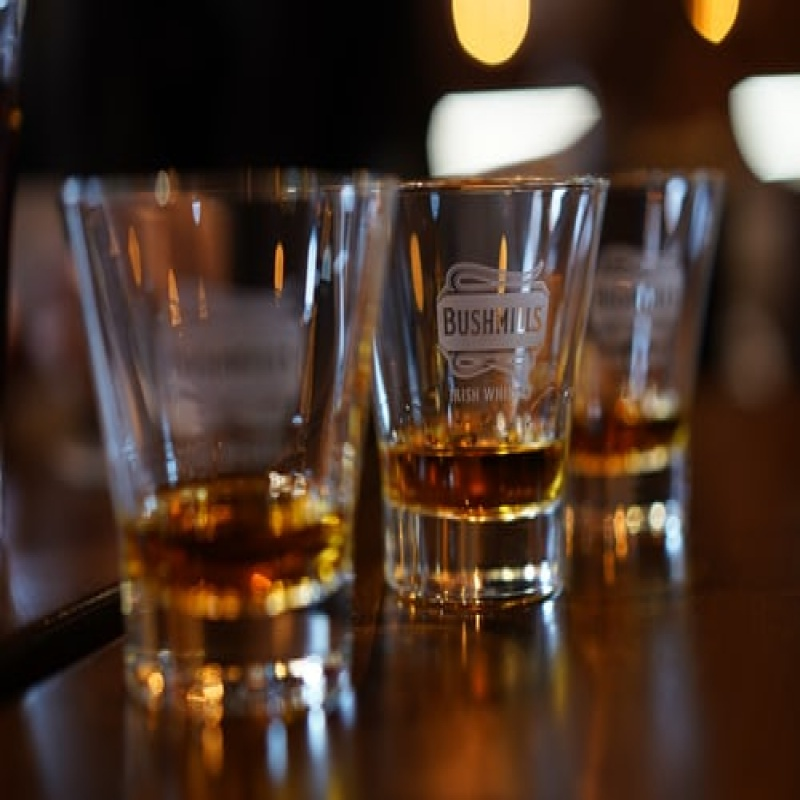whiskey: (58, 177, 353, 600), (377, 166, 600, 614)
